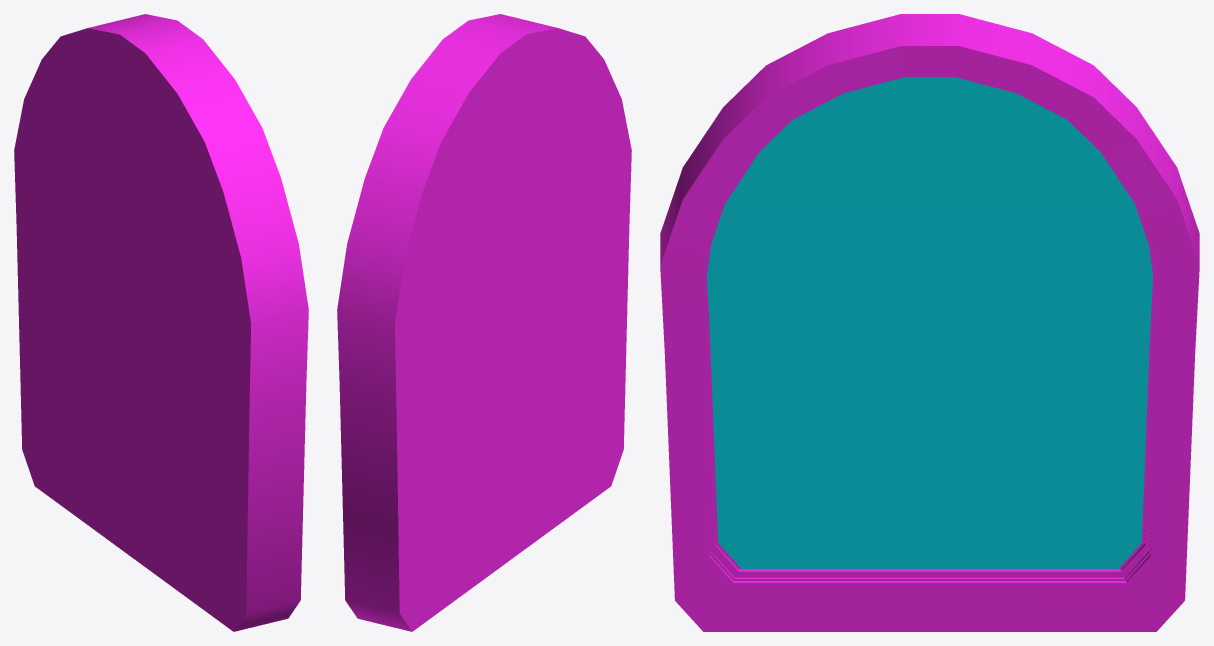
The model's file is mirror.glb.
3 views of the same model, side by side, from view 1: azimuth 30°, elevation 25°; view 2: azimuth 150°, elevation 25°; view 3: azimuth 270°, elevation 25° (orthographic). The views are drawn at different scales.
Visible parts, largest first — view 1: Cube; view 2: Cube; view 3: Cube.001, Cube.
Part boxes in pixels (box(x1,y1,x2,y2)): Cube: box(14, 14, 308, 631); Cube: box(337, 14, 631, 631); Cube.001: box(706, 77, 1153, 569); Cube: box(660, 14, 1199, 631).
Size of the model in its own units: 0.0642 by 0.5486 by 0.4572.
